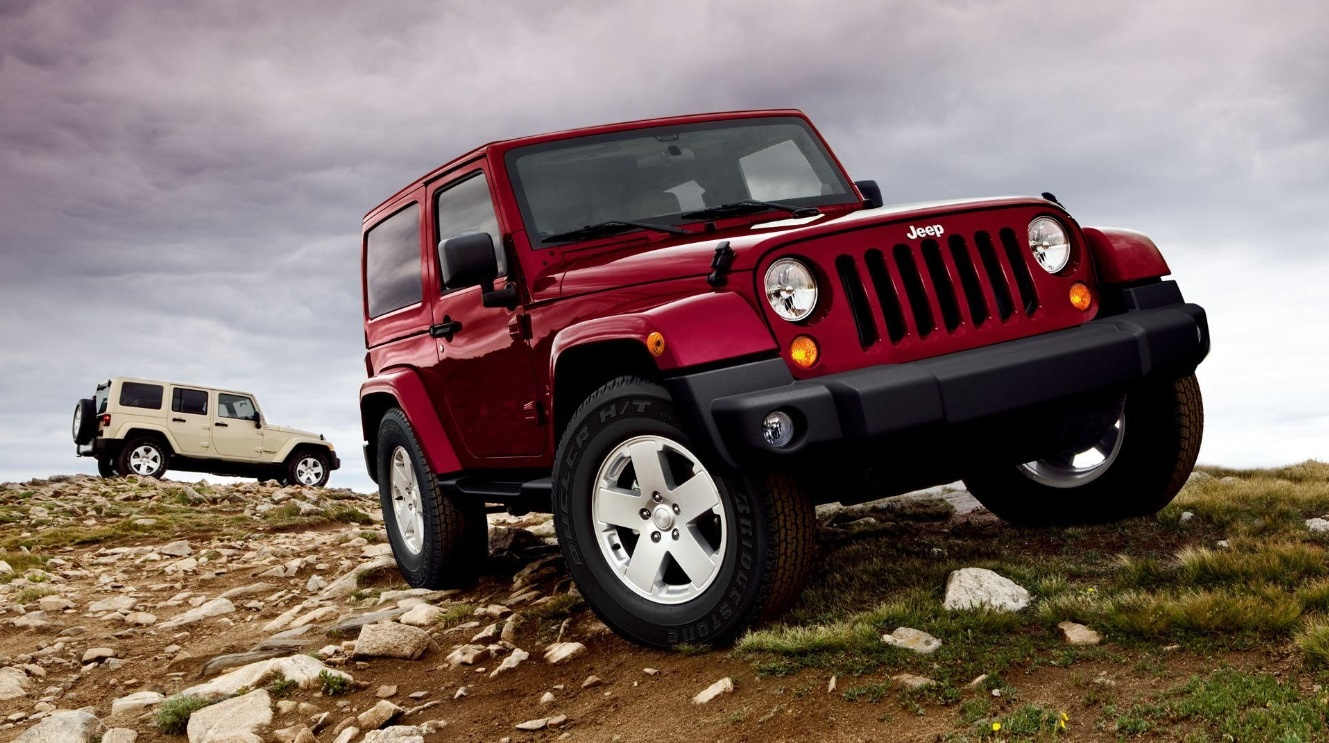jeep: (350, 103, 1213, 628)
